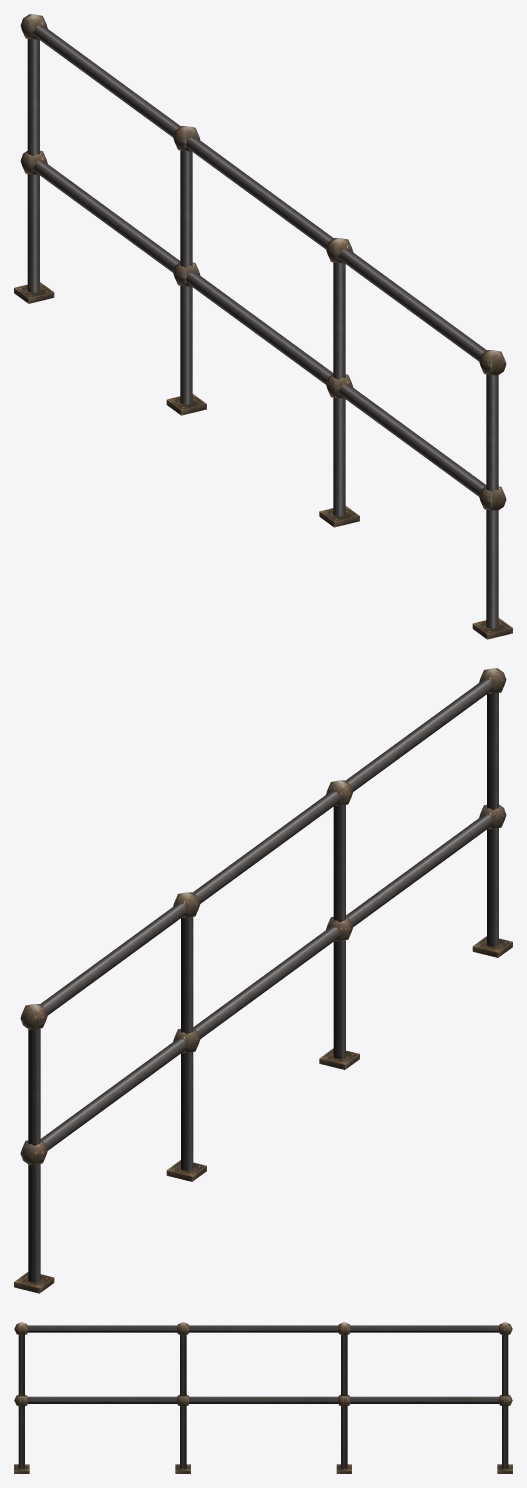
File: railings_factory_4m.DAE
3 views of the same model, one above another, from view 1: azimuth 30°, elevation 25°; view 2: azimuth 150°, elevation 25°; view 3: azimuth 270°, elevation 25° (orthographic). The views are drawn at different scales.
Visible parts, largest first — view 1: Object072; view 2: Object072; view 3: Object072.
Boxes of the visible parts, x1=… form: Object072: x1=14, y1=14, x2=512, y2=639; Object072: x1=14, y1=668, x2=512, y2=1293; Object072: x1=14, y1=1322, x2=512, y2=1473.
Bounding box in the file's own units: 0.125 × 1.31 × 4.
